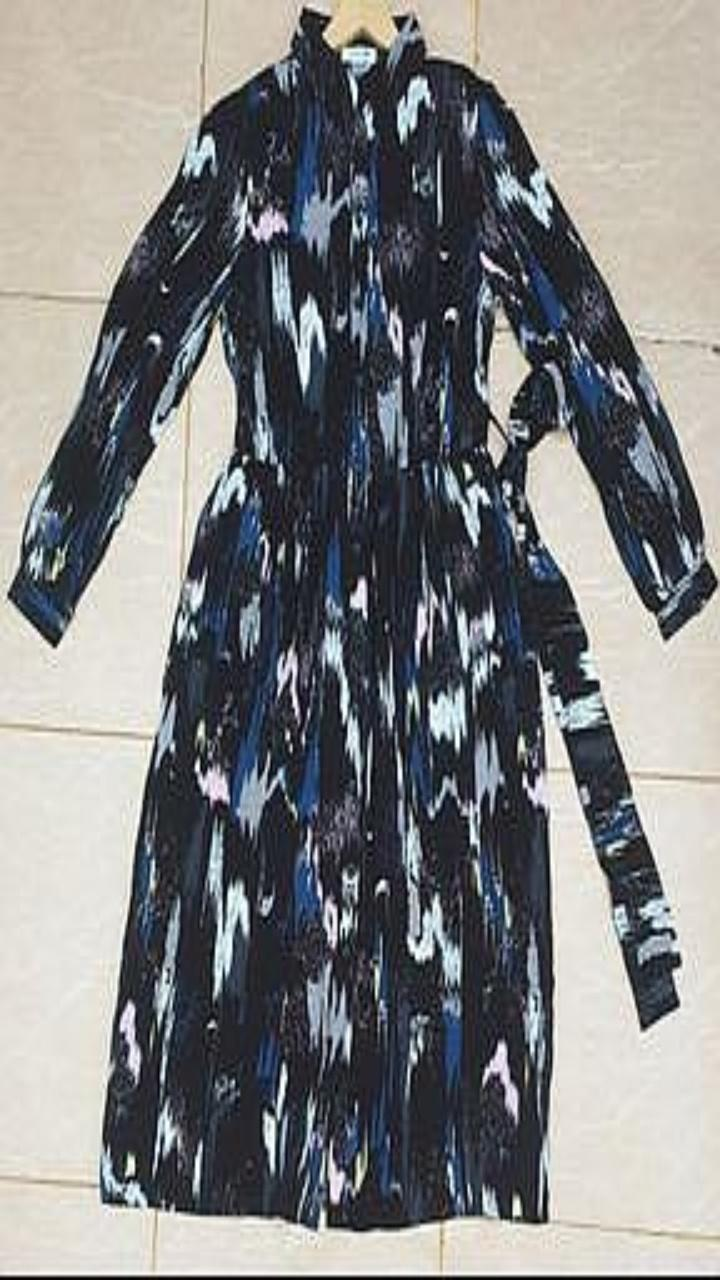Dresses: (9, 6, 716, 1227)
